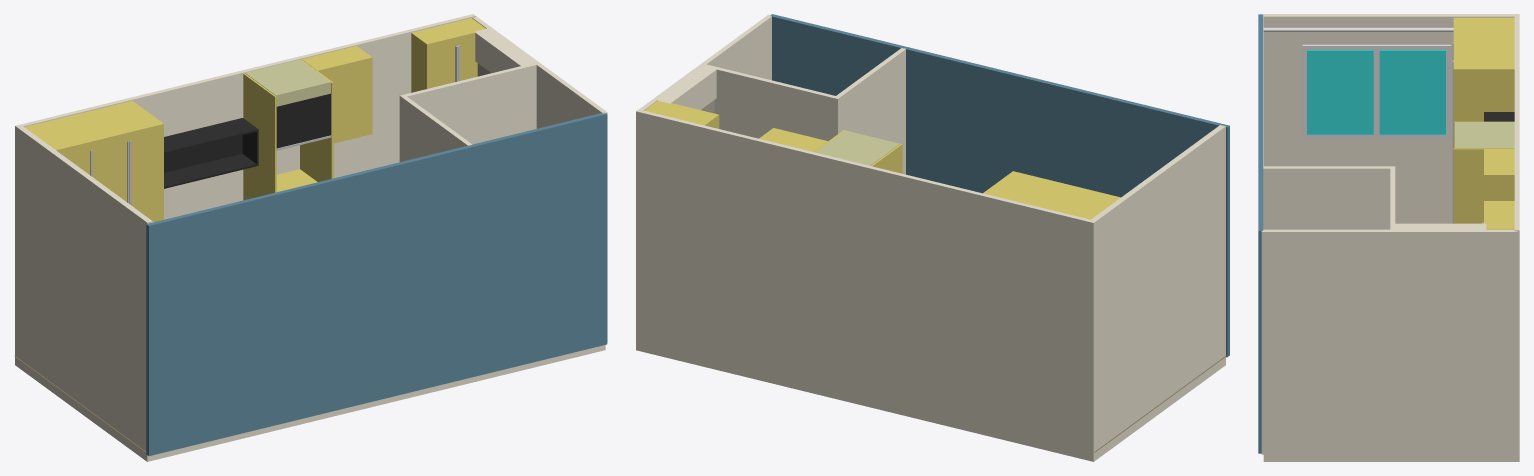
File: Yoon1.fbx
The picture shows the model from 3 angles, left to right: view 1: azimuth 30°, elevation 25°; view 2: azimuth 150°, elevation 25°; view 3: azimuth 270°, elevation 25°; orthographic projection. The views are drawn at different scales.
Visible parts, largest first — view 1: ShoeDrawer.001, Floor, Closet, ShoeDrawer.004, Closet.004, ShoeDrawer, Closet.001, ShoeDrawer.002, ShoeDrawer.003, 큐브.008, 큐브.007, 큐브.005 (+5 smaller); view 2: Floor, ShoeDrawer.001, ShoeDrawer.004, ShoeDrawer.003, Closet, ShoeDrawer.002, 큐브.008, ShoeDrawer.005, ShoeDrawer, Closet.004; view 3: ShoeDrawer.002, Floor, WindowFrame, ShoeDrawer.003, Closet, WindowLeft, WindowRight, Closet.002, ShoeDrawer.001, 큐브.008, Closet.004, 실린더 (+5 smaller).
Part boxes in pixels (bbox=[...]): ShoeDrawer.001: bbox=[146, 113, 607, 455]; Floor: bbox=[15, 14, 605, 461]; Closet: bbox=[24, 101, 163, 221]; ShoeDrawer.004: bbox=[404, 62, 538, 144]; Closet.004: bbox=[302, 46, 372, 143]; ShoeDrawer: bbox=[411, 18, 485, 92]; Closet.001: bbox=[243, 73, 276, 200]; ShoeDrawer.002: bbox=[472, 16, 607, 342]; ShoeDrawer.003: bbox=[399, 94, 472, 161]; 큐브.008: bbox=[245, 59, 330, 106]; 큐브.007: bbox=[276, 93, 330, 148]; 큐브.005: bbox=[164, 118, 258, 154]; Floor: bbox=[636, 109, 1225, 461]; ShoeDrawer.001: bbox=[770, 14, 1229, 357]; ShoeDrawer.004: bbox=[701, 64, 835, 141]; ShoeDrawer.003: bbox=[834, 48, 905, 174]; Closet: bbox=[983, 171, 1120, 219]; ShoeDrawer.002: bbox=[639, 14, 771, 110]; 큐브.008: bbox=[815, 130, 899, 165]; ShoeDrawer.005: bbox=[656, 65, 716, 109]; ShoeDrawer: bbox=[644, 101, 719, 128]; Closet.004: bbox=[759, 128, 827, 151]; ShoeDrawer.002: bbox=[1261, 229, 1517, 454]; Floor: bbox=[1263, 14, 1519, 461]; WindowFrame: bbox=[1302, 44, 1451, 138]; ShoeDrawer.003: bbox=[1263, 166, 1395, 229]; Closet: bbox=[1453, 17, 1514, 121]; WindowLeft: bbox=[1307, 50, 1373, 134]; WindowRight: bbox=[1379, 50, 1445, 134]; Closet.002: bbox=[1453, 148, 1514, 223]; ShoeDrawer.001: bbox=[1258, 14, 1263, 453]; 큐브.008: bbox=[1454, 122, 1514, 148]; Closet.004: bbox=[1484, 149, 1514, 200]; 실린더: bbox=[1263, 27, 1453, 31].
Bounding box in the file's own units: 5.03 × 2.5 × 2.55.
